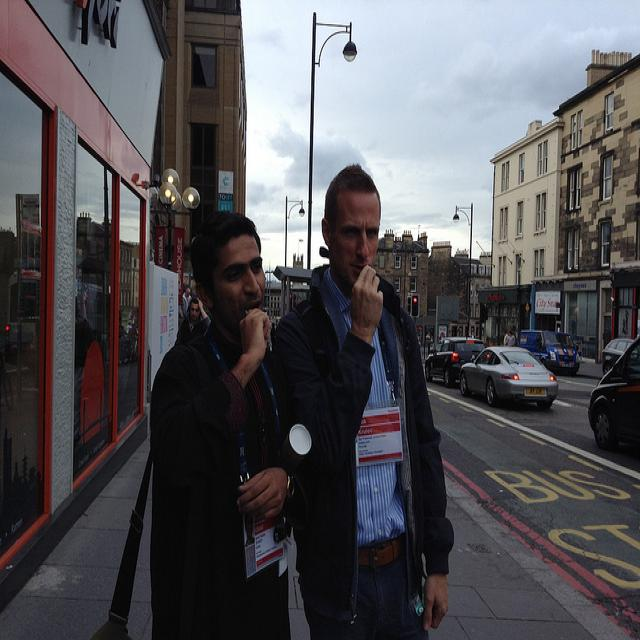Vehicle: (460, 347, 557, 409), (587, 336, 639, 450), (424, 336, 485, 388), (520, 329, 580, 376), (601, 338, 635, 374)
